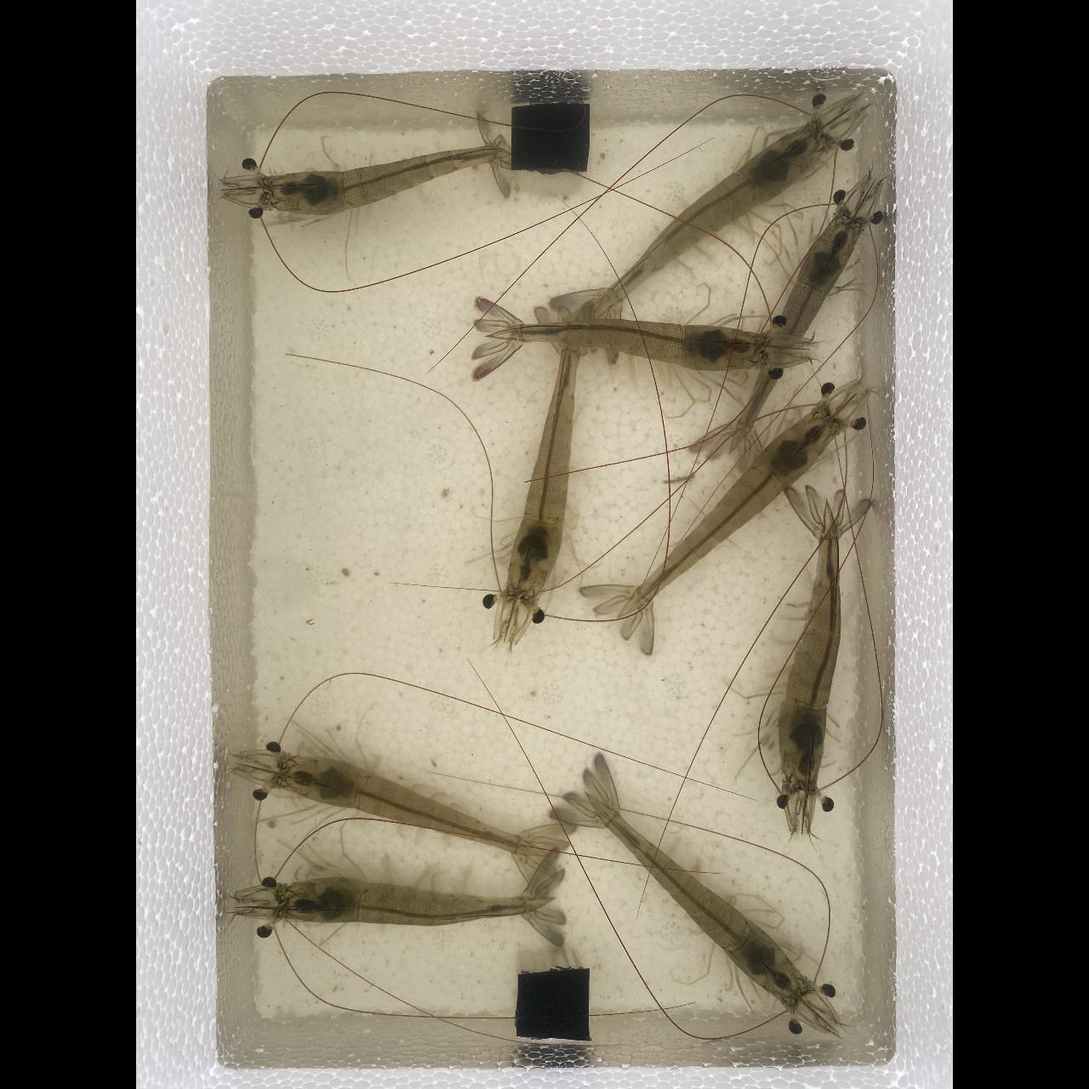box: (510, 100, 590, 172), (517, 968, 589, 1040)
top_shrimp: (585, 126, 825, 323), (585, 795, 803, 1004), (619, 413, 835, 618), (735, 216, 859, 441), (279, 757, 543, 852), (512, 311, 577, 597), (781, 510, 841, 786), (264, 145, 502, 214), (495, 320, 773, 371), (277, 876, 548, 924)
